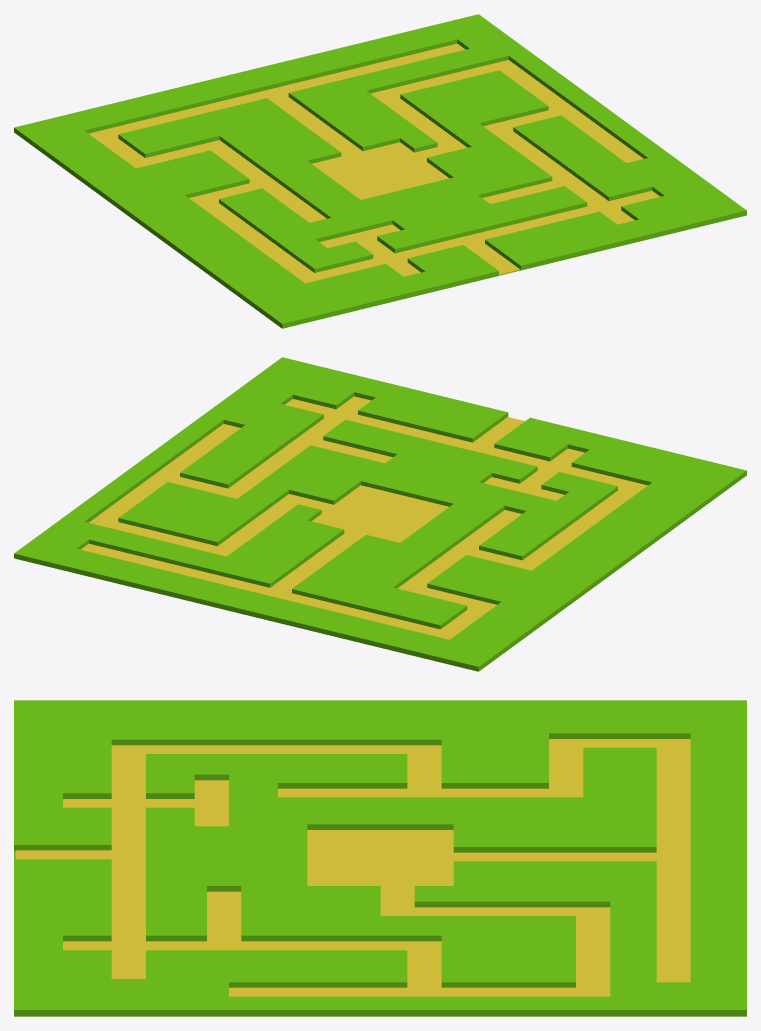
Rendered from laberinto.dae.
3 views of the same model, one above another, from view 1: azimuth 30°, elevation 25°; view 2: azimuth 150°, elevation 25°; view 3: azimuth 270°, elevation 25° (orthographic). The views are drawn at different scales.
Visible parts, largest first — view 1: node0, Cube; view 2: node0, Cube; view 3: node0, Cube.
Boxes of the visible parts, <box> form: node0: <box>14,14,746,328</box>; Cube: <box>89,43,660,283</box>; node0: <box>14,357,746,671</box>; Cube: <box>81,396,647,639</box>; node0: <box>14,700,746,1016</box>; Cube: <box>15,739,690,996</box>.
Size of the model in its own units: 15 by 15 by 0.15.
